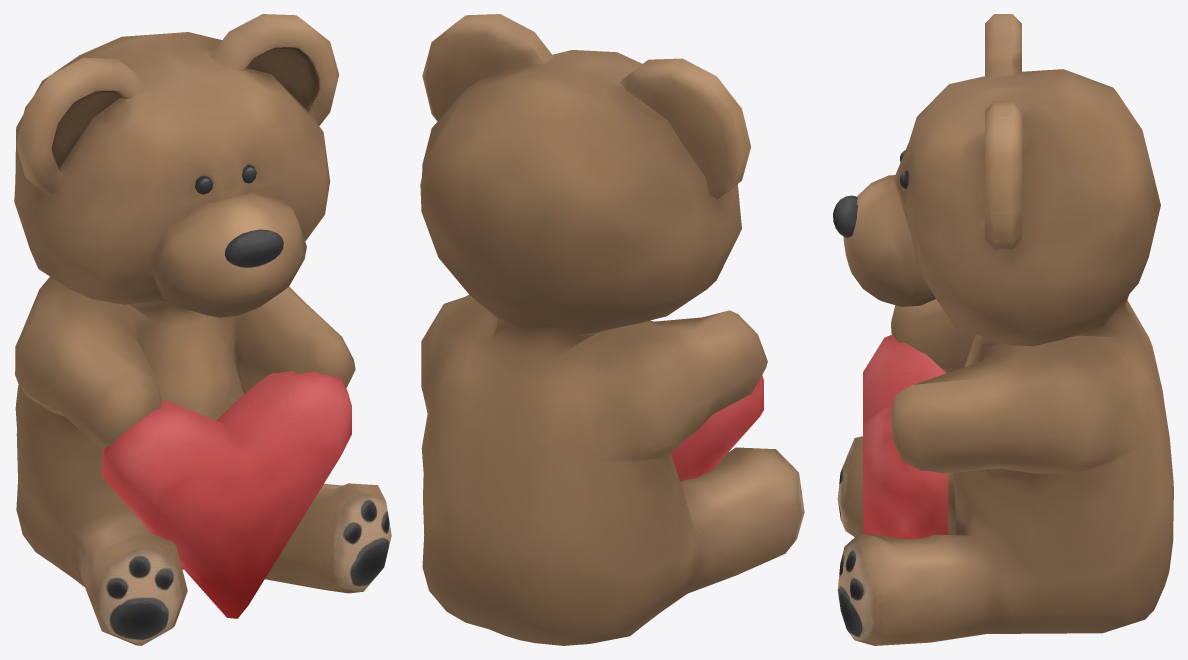
3 views of the same model, side by side, from view 1: azimuth 30°, elevation 25°; view 2: azimuth 150°, elevation 25°; view 3: azimuth 270°, elevation 25° (orthographic). The views are drawn at different scales.
Visible parts, largest first — view 1: Teddy; view 2: Teddy; view 3: Teddy.
Boxes of the visible parts, <box> form: Teddy: <box>14,14,391,645</box>; Teddy: <box>420,14,804,645</box>; Teddy: <box>833,14,1173,645</box>.
Bounding box in the file's own units: 44.06 × 73.71 × 41.69.
Materials: 1 (1 with a texture image).
